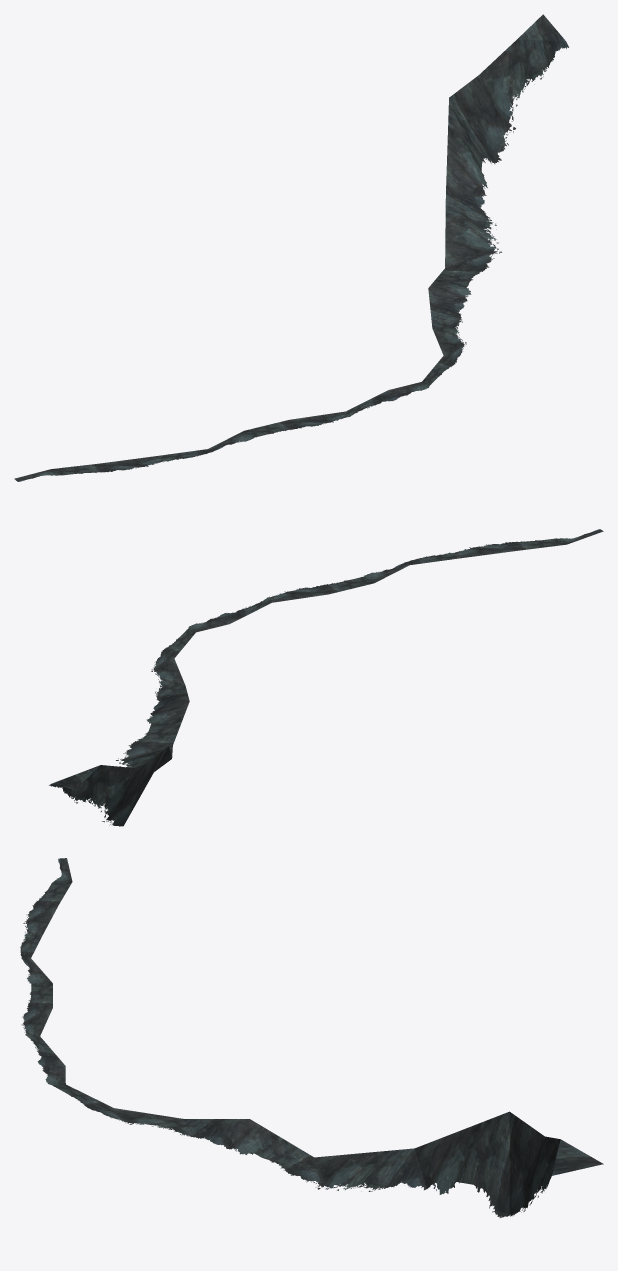
File: blend_weeds20.fbx
3 views of the same model, one above another, from view 1: azimuth 30°, elevation 25°; view 2: azimuth 210°, elevation 25°; view 3: azimuth 270°, elevation 25° (orthographic). The views are drawn at different scales.
Visible parts, largest first — view 1: obj0.041; view 2: obj0.041; view 3: obj0.041.
Boxes of the visible parts, x1=… form: obj0.041: x1=14, y1=14, x2=568, y2=481; obj0.041: x1=49, y1=529, x2=603, y2=826; obj0.041: x1=20, y1=858, x2=603, y2=1217.
Size of the model in its own units: 42.32 by 5.53 by 25.
